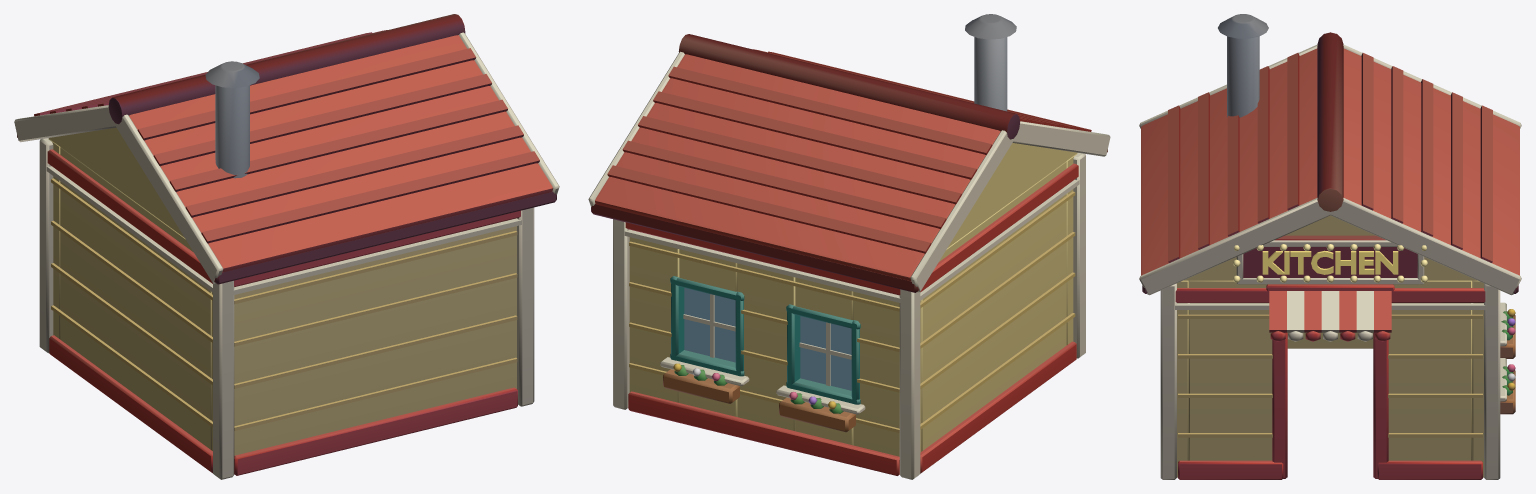
The model's file is Kitchen.fbx.
3 views of the same model, side by side, from view 1: azimuth 30°, elevation 25°; view 2: azimuth 150°, elevation 25°; view 3: azimuth 270°, elevation 25° (orthographic). The views are drawn at different scales.
Visible parts, largest first — view 1: SM_Bld_Kitchen_Walls, SM_Bld_Kitchen_Roof, SM_Bld_Kitchen_Trim; view 2: SM_Bld_Kitchen_Roof, SM_Bld_Kitchen_Walls, SM_Bld_Kitchen_Trim, SM_Bld_Kitchen_Glass; view 3: SM_Bld_Kitchen_Roof, SM_Bld_Kitchen_Walls, SM_Bld_Kitchen_Trim, SM_Bld_Kitchen_Awning, SM_Bld_Kitchen_Sign, SM_Bld_Kitchen_Glow.
Part boxes in pixels (x1,y1,x2,y2): SM_Bld_Kitchen_Walls: (48, 127, 517, 455); SM_Bld_Kitchen_Roof: (17, 14, 556, 284); SM_Bld_Kitchen_Trim: (14, 32, 559, 479); SM_Bld_Kitchen_Roof: (591, 14, 1107, 292); SM_Bld_Kitchen_Walls: (629, 143, 1077, 456); SM_Bld_Kitchen_Trim: (588, 51, 1110, 479); SM_Bld_Kitchen_Glass: (684, 288, 851, 390); SM_Bld_Kitchen_Roof: (1141, 14, 1519, 293); SM_Bld_Kitchen_Walls: (1177, 215, 1483, 477); SM_Bld_Kitchen_Trim: (1139, 44, 1521, 479); SM_Bld_Kitchen_Awning: (1266, 284, 1394, 341); SM_Bld_Kitchen_Sign: (1236, 235, 1424, 284); SM_Bld_Kitchen_Glow: (1233, 244, 1427, 282).
Bounding box in the file's own units: 18.48 × 17.45 × 17.53.
